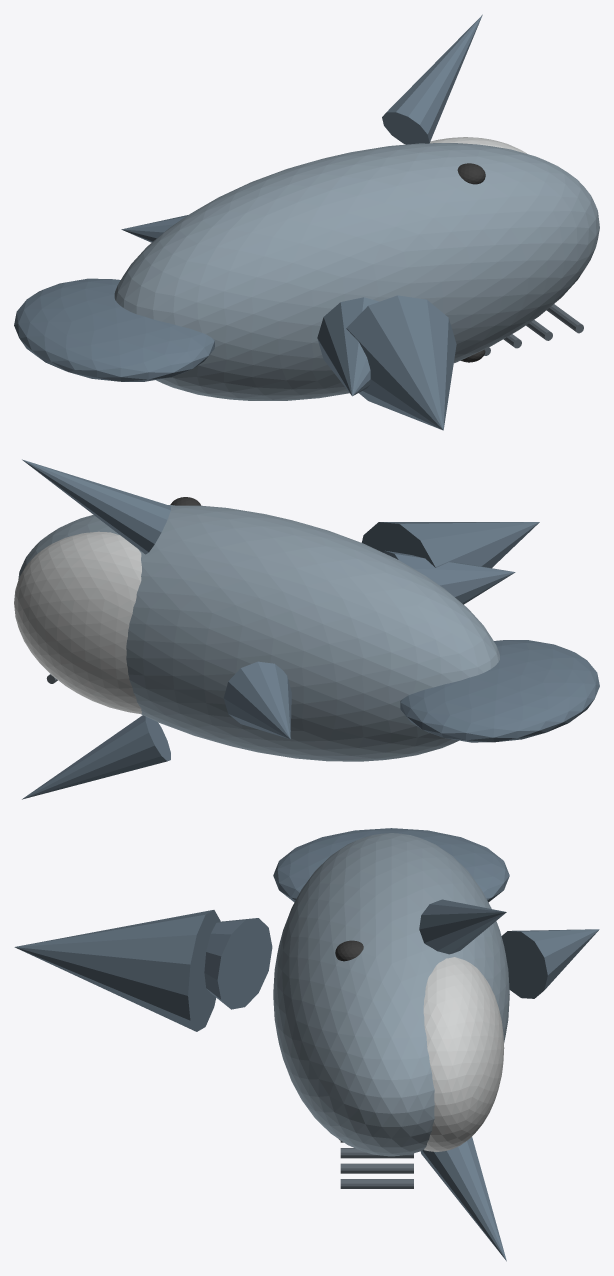
The model's file is shark.glb.
The picture shows the model from 3 angles, top to bottom: view 1: azimuth 30°, elevation 25°; view 2: azimuth 150°, elevation 25°; view 3: azimuth 270°, elevation 25°; orthographic projection. The views are drawn at different scales.
Parts seen in each view (by area): view 1: world; view 2: world; view 3: world.
Boxes of the visible parts, x1,y1,x2,y2 form: world: (14,14,599,430); world: (14,459,599,799); world: (14,828,599,1261).
Size of the model in its own units: 2.35 by 1.37 by 2.08.
